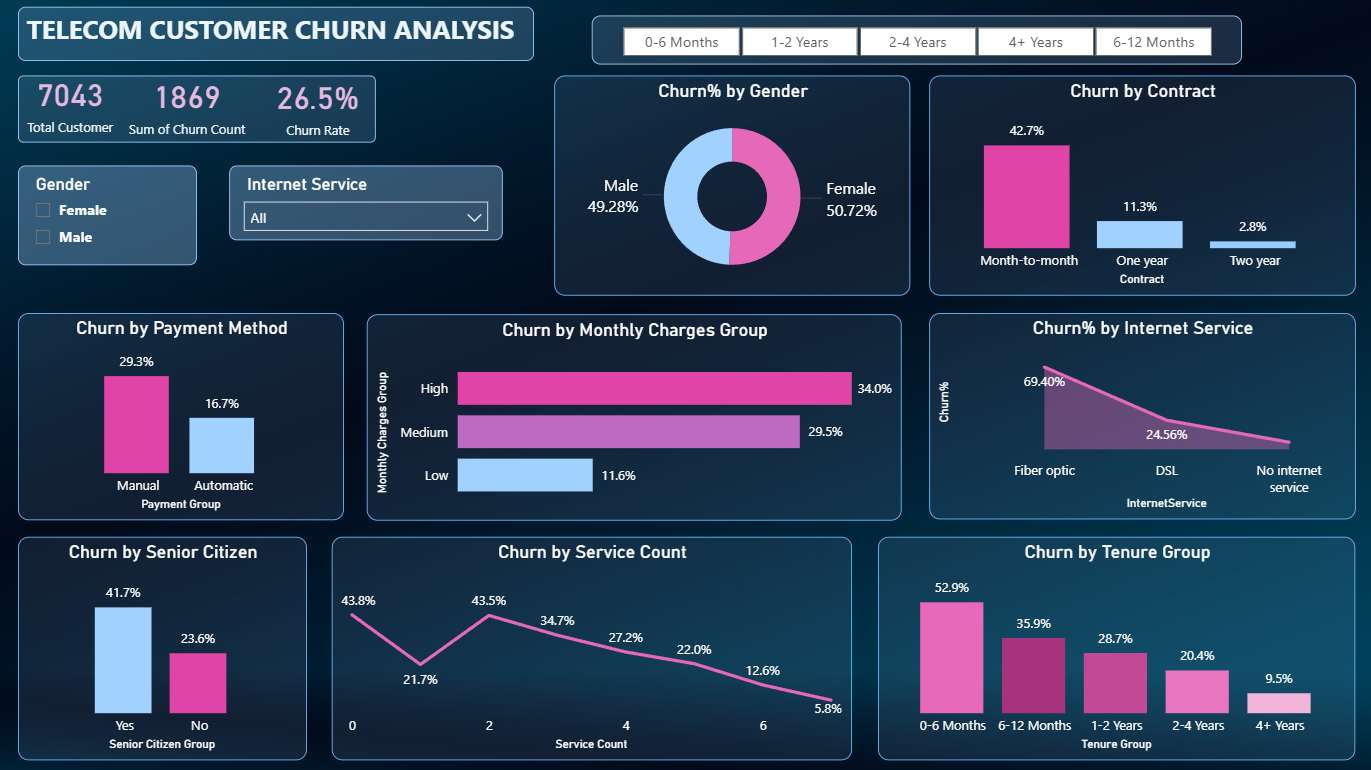

Layout of this report page (visuals, bound fields, positions):
{"tool":"powerbi","page":{"name":"Page 1","canvas":[1280,720],"ordinal":0},"visuals":[{"type":"card","fields":{"Values":["Sum(WA_Fn-UseC_-Telco-Customer-Churn.Churn Count)"]},"box":[116.3,62.8,119.8,70.9],"z":0},{"type":"card","fields":{"Values":["Telecom Churn Data.Total Customer"]},"box":[18.6,61.6,97.7,70.9],"z":1000},{"type":"card","fields":{"Values":["Telecom Churn Data.Churn Rate","select"]},"box":[252.3,64,90.7,70.9],"z":2000},{"type":"donutChart","title":"Churn% by Gender","fields":{"Category":["Telecom Churn Data.gender"],"Y":["Telecom Churn Data.Churn Rate"]},"box":[517.4,72.1,331.4,204.7],"z":3000},{"type":"columnChart","title":"Churn by Payment Method","fields":{"Category":["Telecom Churn Data.Payment Group"],"Y":["Telecom Churn Data.Churn Rate"]},"box":[18.6,293,303.5,193],"z":4000},{"type":"columnChart","title":"Churn by Contract","fields":{"Category":["Telecom Churn Data.Contract"],"Y":["Telecom Churn Data.Churn Rate"]},"box":[866.3,72.1,396.5,204.7],"z":5000},{"type":"barChart","title":"Churn by Monthly Charges Group","fields":{"Category":["Telecom Churn Data.Monthly Charges Group"],"Y":["Telecom Churn Data.Churn Rate"]},"box":[343,294.2,497.7,191.9],"z":6000},{"type":"stackedAreaChart","title":"Churn% by Internet Service","fields":{"Category":["Telecom Churn Data.InternetService"],"Y":["Sum(Telecom Churn Data.Churn Count)"]},"box":[866.3,293,396.5,191.9],"z":7000},{"type":"columnChart","title":"Churn by Tenure Group","fields":{"Category":["Telecom Churn Data.Tenure Group"],"Y":["Telecom Churn Data.Churn Rate"]},"box":[818.6,501.2,444.2,208.1],"z":8000},{"type":"lineChart","title":"Churn by Service Count","fields":{"Category":["Telecom Churn Data.Service Count"],"Y":["Telecom Churn Data.Churn Rate"]},"box":[310.5,501.2,483.7,208.1],"z":9000},{"type":"textbox","box":[8.1,8.1,490.7,41.9],"z":10000},{"type":"textbox","box":[18.6,8.1,480.2,50],"z":11000},{"type":"textbox","box":[18.6,72.1,332.6,62.8],"z":12000},{"type":"columnChart","title":"Churn by Senior Citizen","fields":{"Y":["Telecom Churn Data.Churn Rate"],"Category":["Telecom Churn Data.Senior Citizen Group"]},"box":[18.6,501.2,268.6,208.1],"z":13000},{"type":"slicer","fields":{"Values":["Telecom Churn Data.gender"]},"box":[18.6,155.8,166.3,93],"z":14000},{"type":"slicer","fields":{"Values":["Telecom Churn Data.Tenure Group"]},"box":[552.3,16.3,604.7,45.3],"z":15000},{"type":"slicer","fields":{"Values":["Telecom Churn Data.InternetService"]},"box":[215.1,155.8,254.7,69.8],"z":16000}]}

Visuals, with their boxes in screenshot pixels (x1, y1, x2, y2), scaled from the page's 1280x720 canvas onto the 1371x770 screenshot:
card - Sum(WA_Fn-UseC_-Telco-Customer-Churn.Churn Count): left=125, top=67, right=253, bottom=143
card - Telecom Churn Data.Total Customer: left=20, top=66, right=125, bottom=142
card - Telecom Churn Data.Churn Rate x select: left=270, top=68, right=367, bottom=144
"Churn% by Gender" donutChart: left=554, top=77, right=909, bottom=296
"Churn by Payment Method" columnChart: left=20, top=313, right=345, bottom=520
"Churn by Contract" columnChart: left=928, top=77, right=1353, bottom=296
"Churn by Monthly Charges Group" barChart: left=367, top=315, right=900, bottom=520
"Churn% by Internet Service" stackedAreaChart: left=928, top=313, right=1353, bottom=519
"Churn by Tenure Group" columnChart: left=877, top=536, right=1353, bottom=759
"Churn by Service Count" lineChart: left=333, top=536, right=851, bottom=759
textbox: left=9, top=9, right=534, bottom=53
textbox: left=20, top=9, right=534, bottom=62
textbox: left=20, top=77, right=376, bottom=144
"Churn by Senior Citizen" columnChart: left=20, top=536, right=308, bottom=759
slicer - Telecom Churn Data.gender: left=20, top=167, right=198, bottom=266
slicer - Telecom Churn Data.Tenure Group: left=592, top=17, right=1239, bottom=66
slicer - Telecom Churn Data.InternetService: left=230, top=167, right=503, bottom=241
